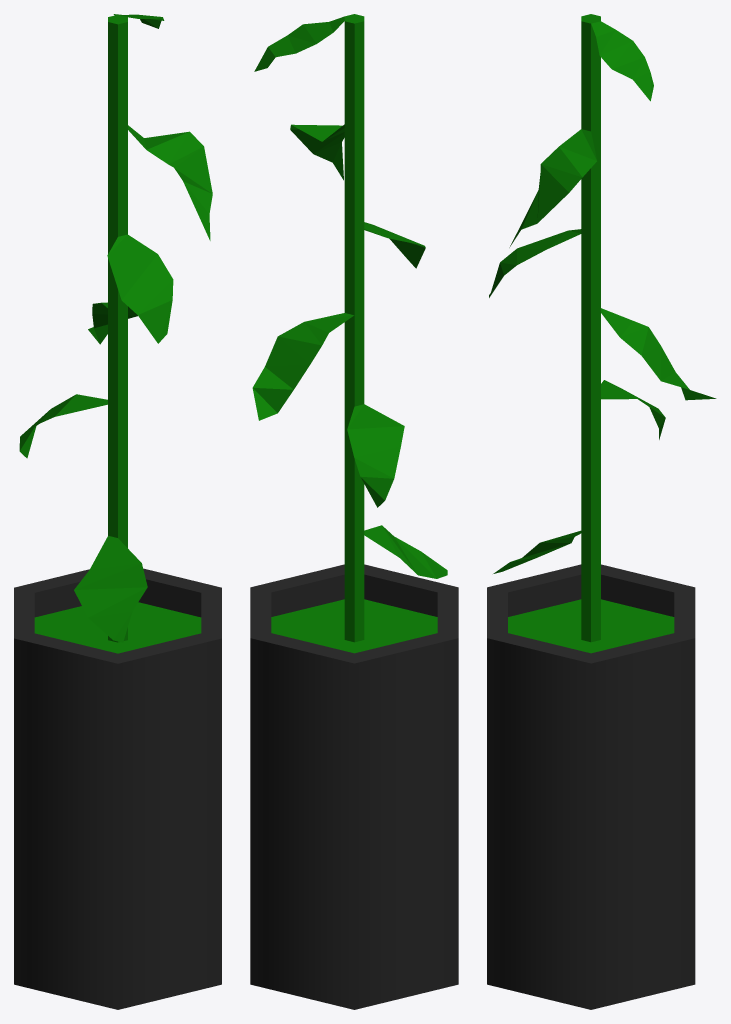
The model's file is WR Plant.fbx.
3 views of the same model, side by side, from view 1: azimuth 30°, elevation 25°; view 2: azimuth 150°, elevation 25°; view 3: azimuth 270°, elevation 25° (orthographic).
Parts seen in each view (by area): view 1: WR Plant0; view 2: WR Plant0; view 3: WR Plant0.
Boxes of the visible parts, bbox=[...] form: WR Plant0: bbox=[14, 14, 221, 1009]; WR Plant0: bbox=[250, 14, 458, 1009]; WR Plant0: bbox=[487, 14, 716, 1009].
Bounding box in the file's own units: 22 × 95 × 21.04.
